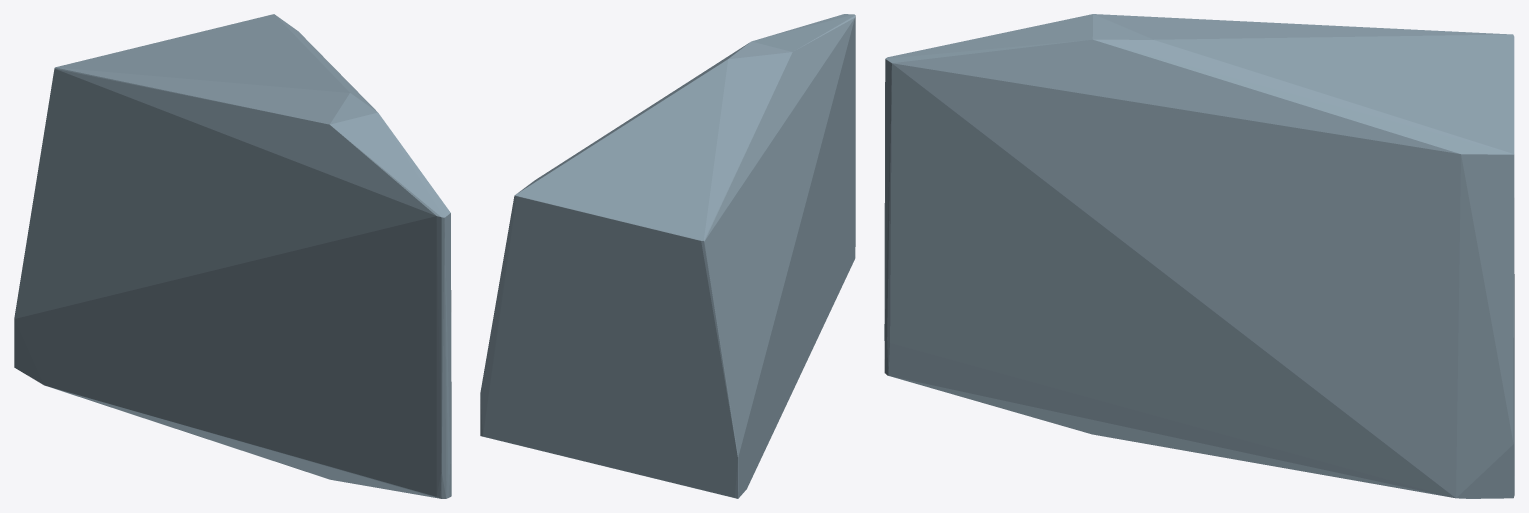
The model's file is tireTool_bead_breaker_b01.glb.
3 views of the same model, side by side, from view 1: azimuth 30°, elevation 25°; view 2: azimuth 150°, elevation 25°; view 3: azimuth 270°, elevation 25° (orthographic). The views are drawn at different scales.
Parts seen in each view (by area): view 1: geometry_0; view 2: geometry_0; view 3: geometry_0.
Boxes of the visible parts, bbox=[...] form: geometry_0: bbox=[14, 14, 451, 498]; geometry_0: bbox=[480, 14, 855, 498]; geometry_0: bbox=[884, 14, 1514, 498].
Bounding box in the file's own units: 0.294 × 0.3332 × 0.48.
